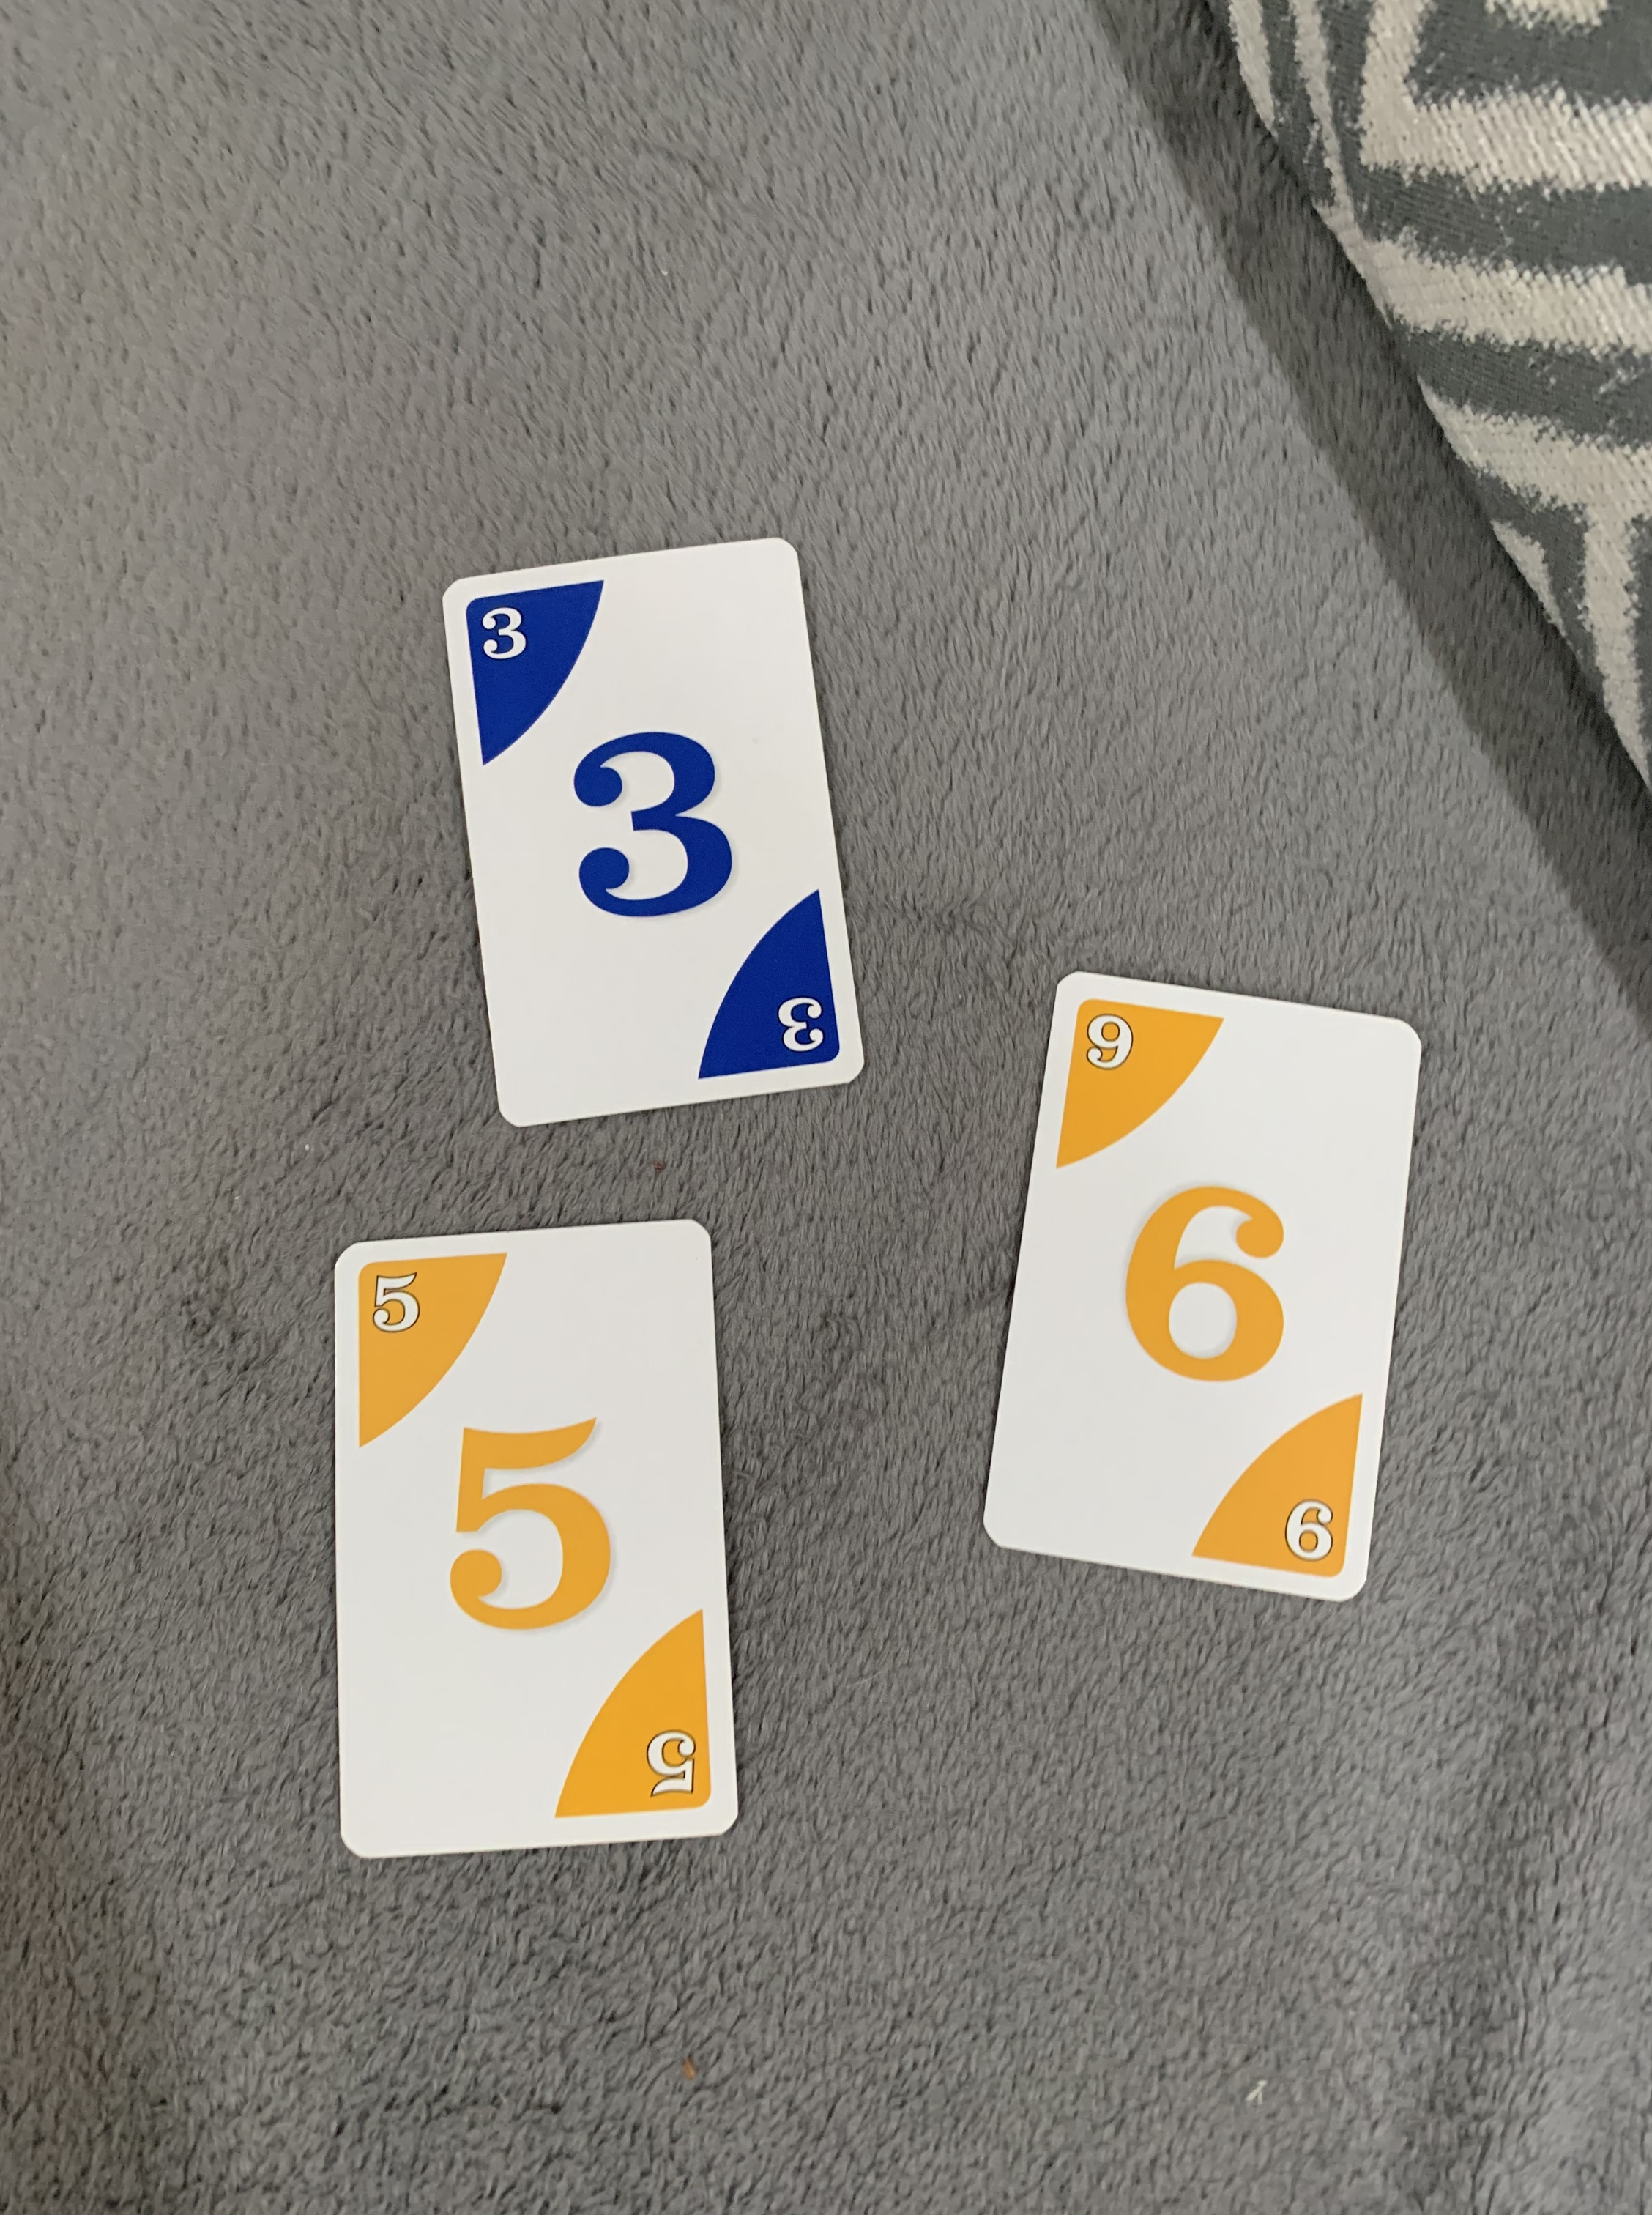five: (319, 1201, 755, 1875)
six: (954, 956, 1440, 1614)
three: (434, 521, 875, 1139)
